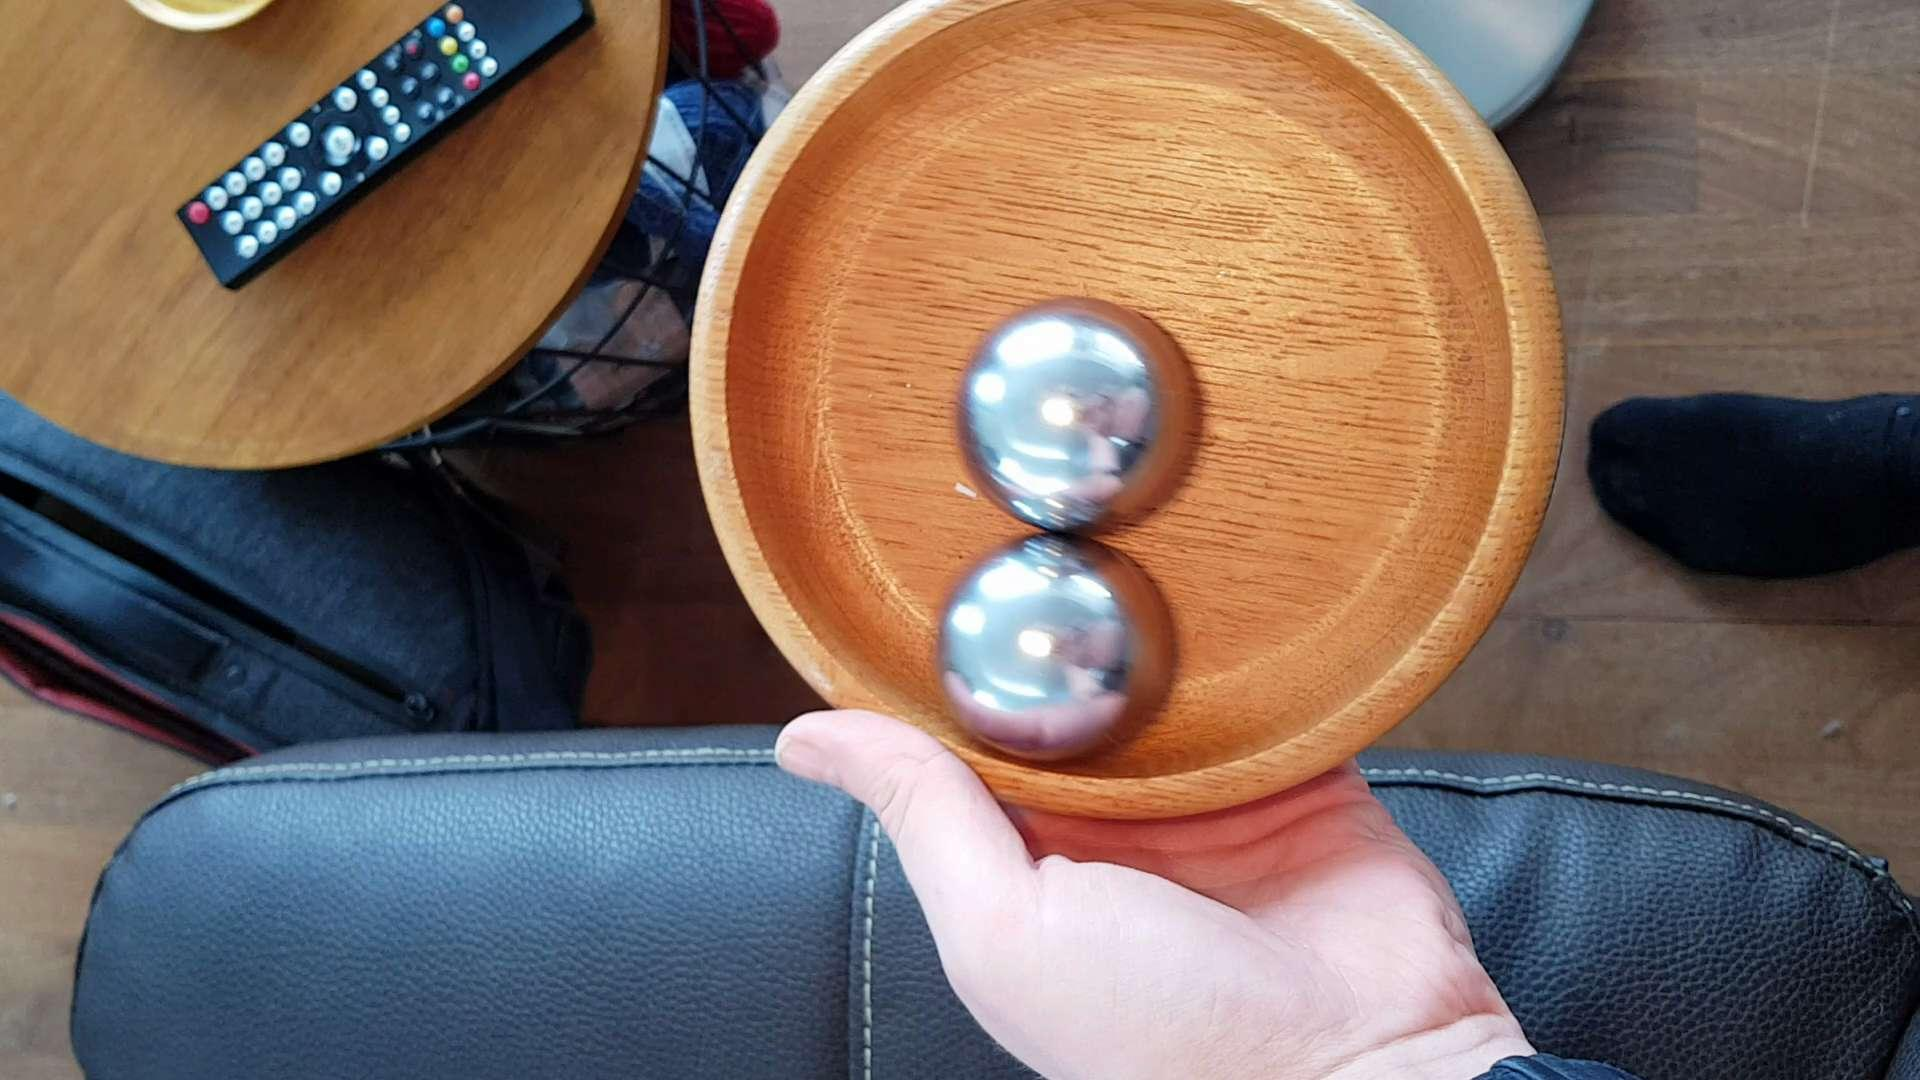sphere: (934, 527, 1182, 773), (957, 299, 1212, 512)
